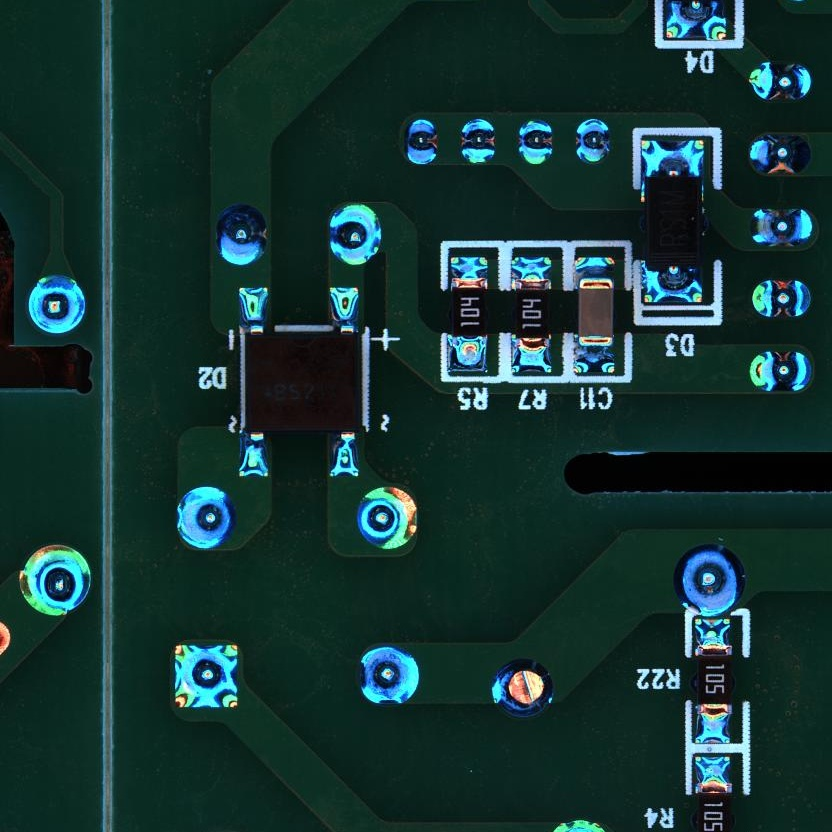spot: (17, 543, 93, 619), (672, 542, 746, 617), (172, 484, 238, 553), (174, 642, 239, 710), (354, 485, 420, 551), (26, 274, 87, 337), (490, 657, 553, 718), (359, 644, 420, 706), (327, 202, 384, 267), (214, 202, 268, 270), (746, 349, 814, 394), (745, 131, 814, 175), (747, 206, 816, 248), (750, 279, 814, 319), (749, 61, 812, 101), (515, 116, 556, 168), (458, 116, 497, 168), (573, 117, 613, 167), (402, 115, 440, 167)
